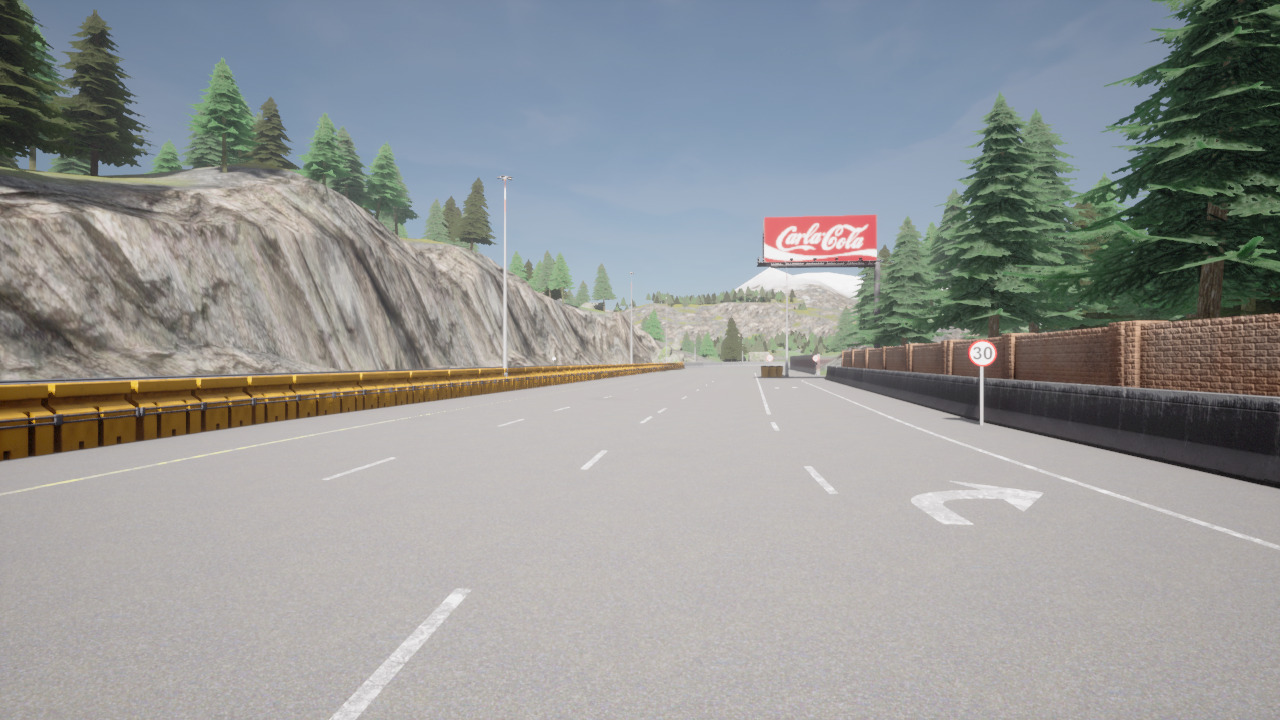sl30: (968, 339, 998, 367)
